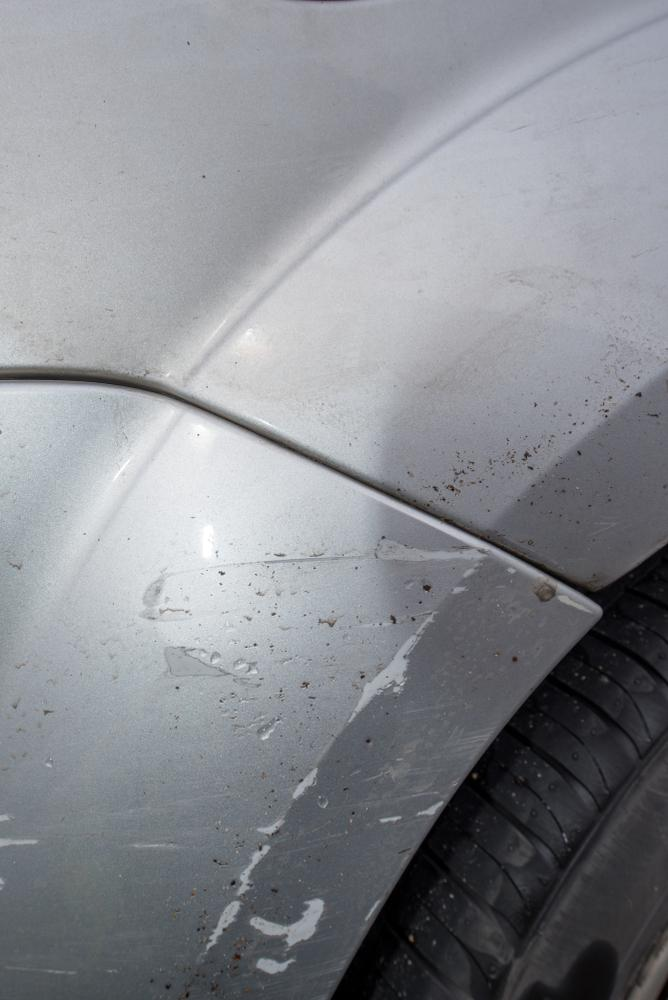scratch: (0, 533, 498, 1000)
